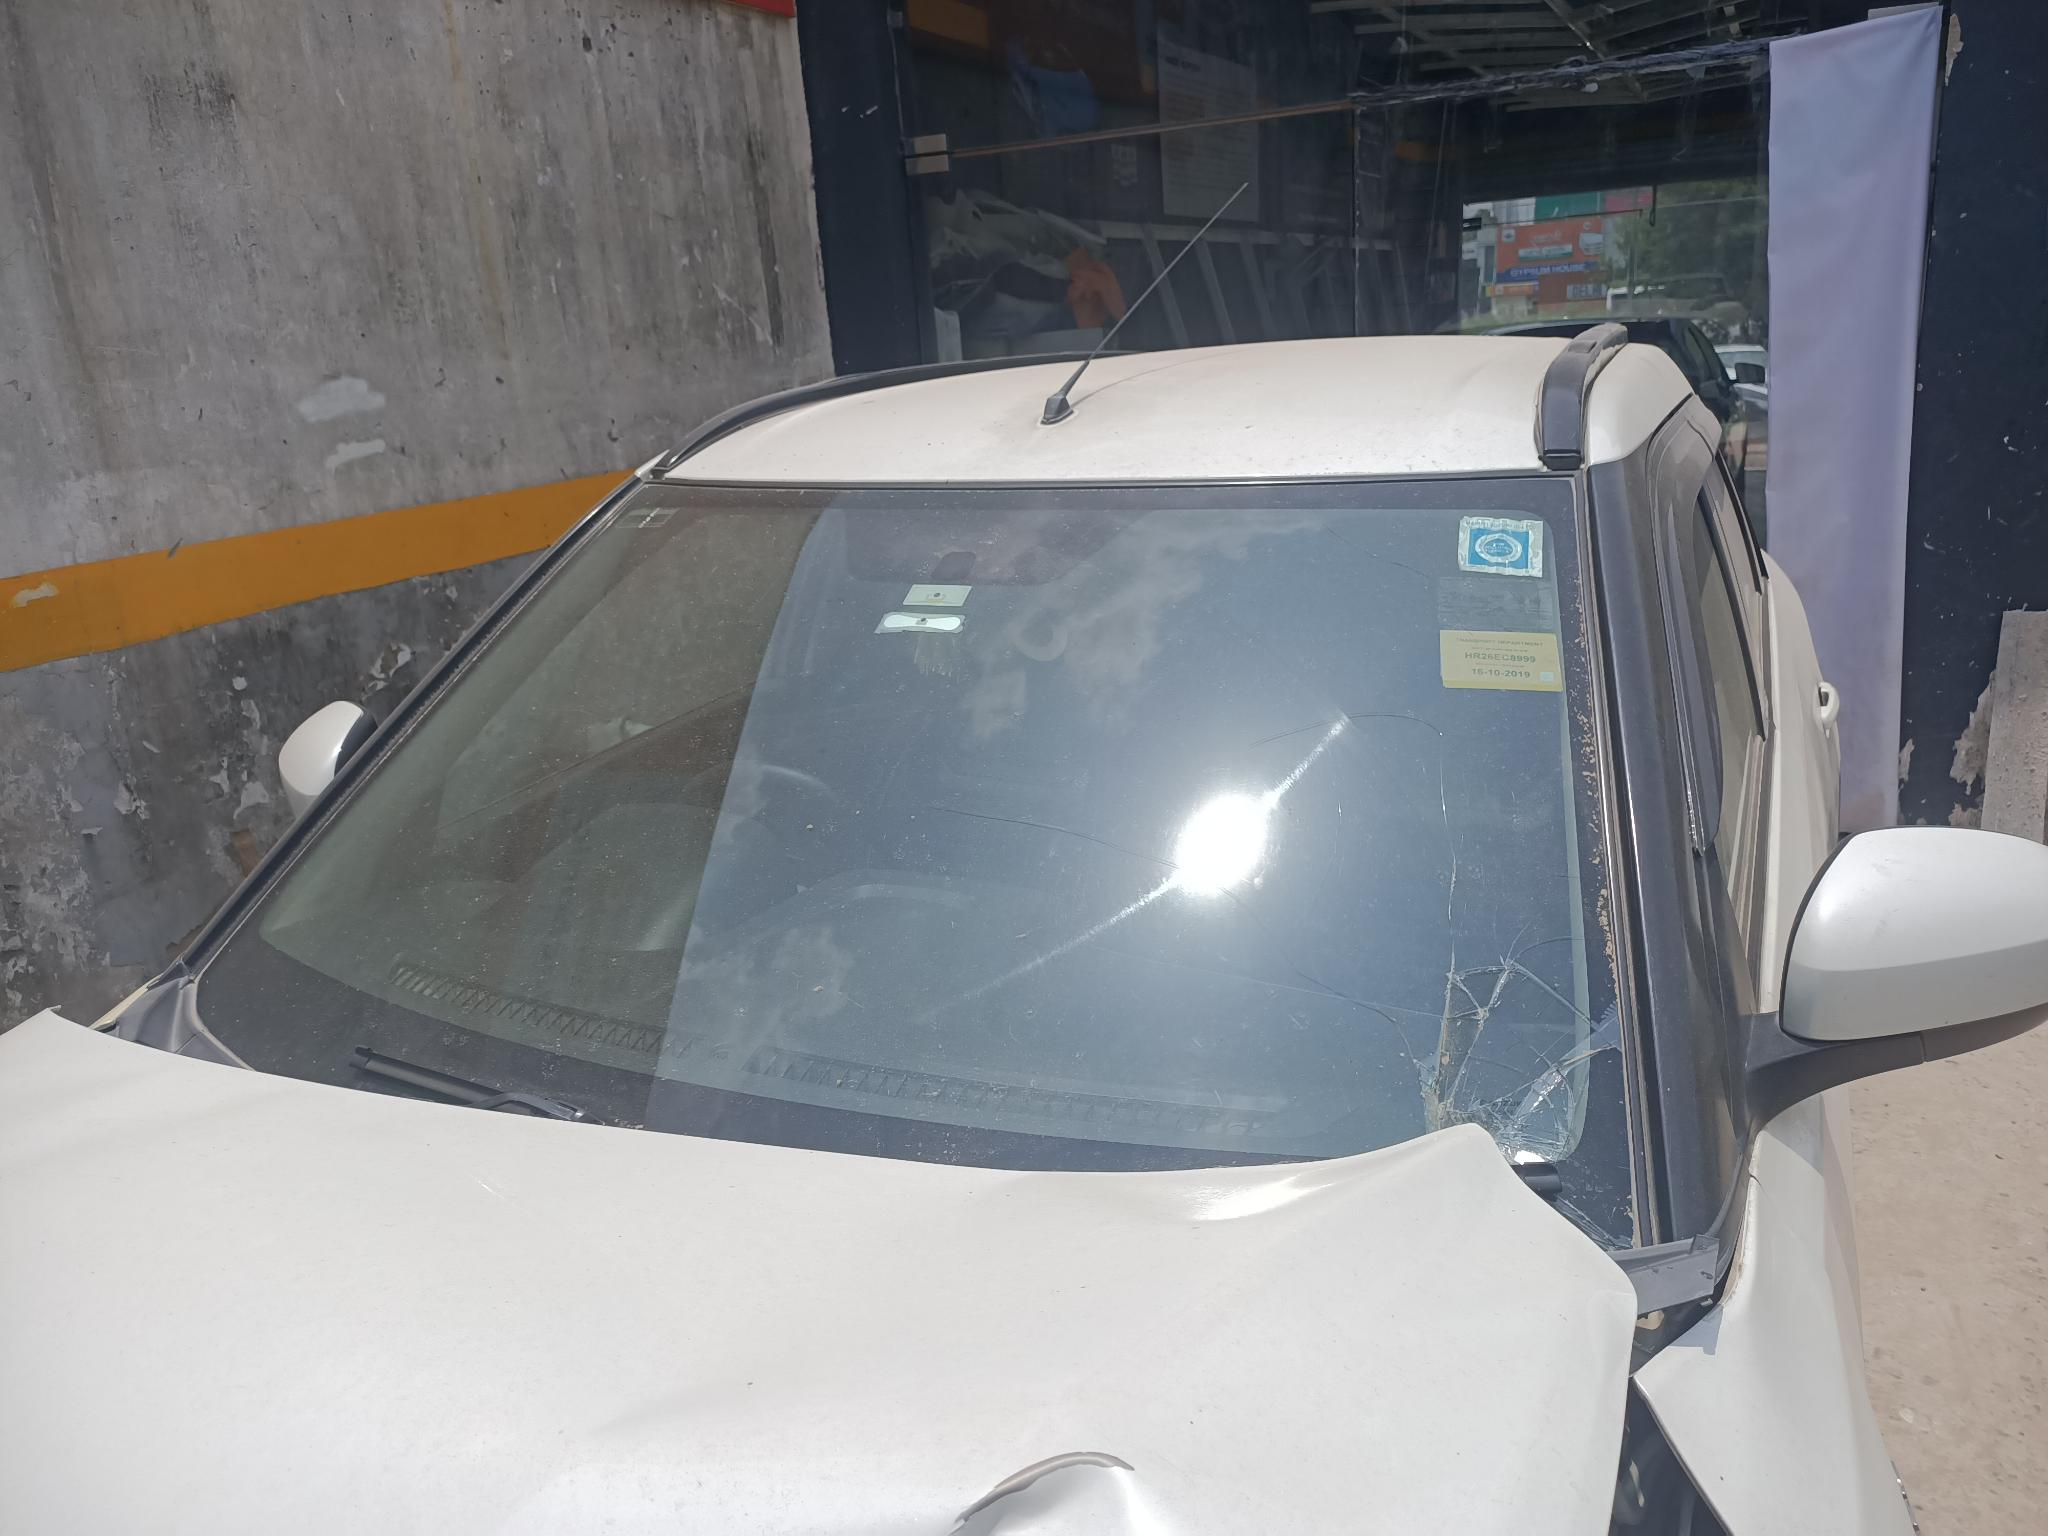FastTag: (871, 610, 980, 671)
not a FastTag: (1429, 608, 1567, 718), (1447, 505, 1551, 581), (890, 574, 971, 607)
